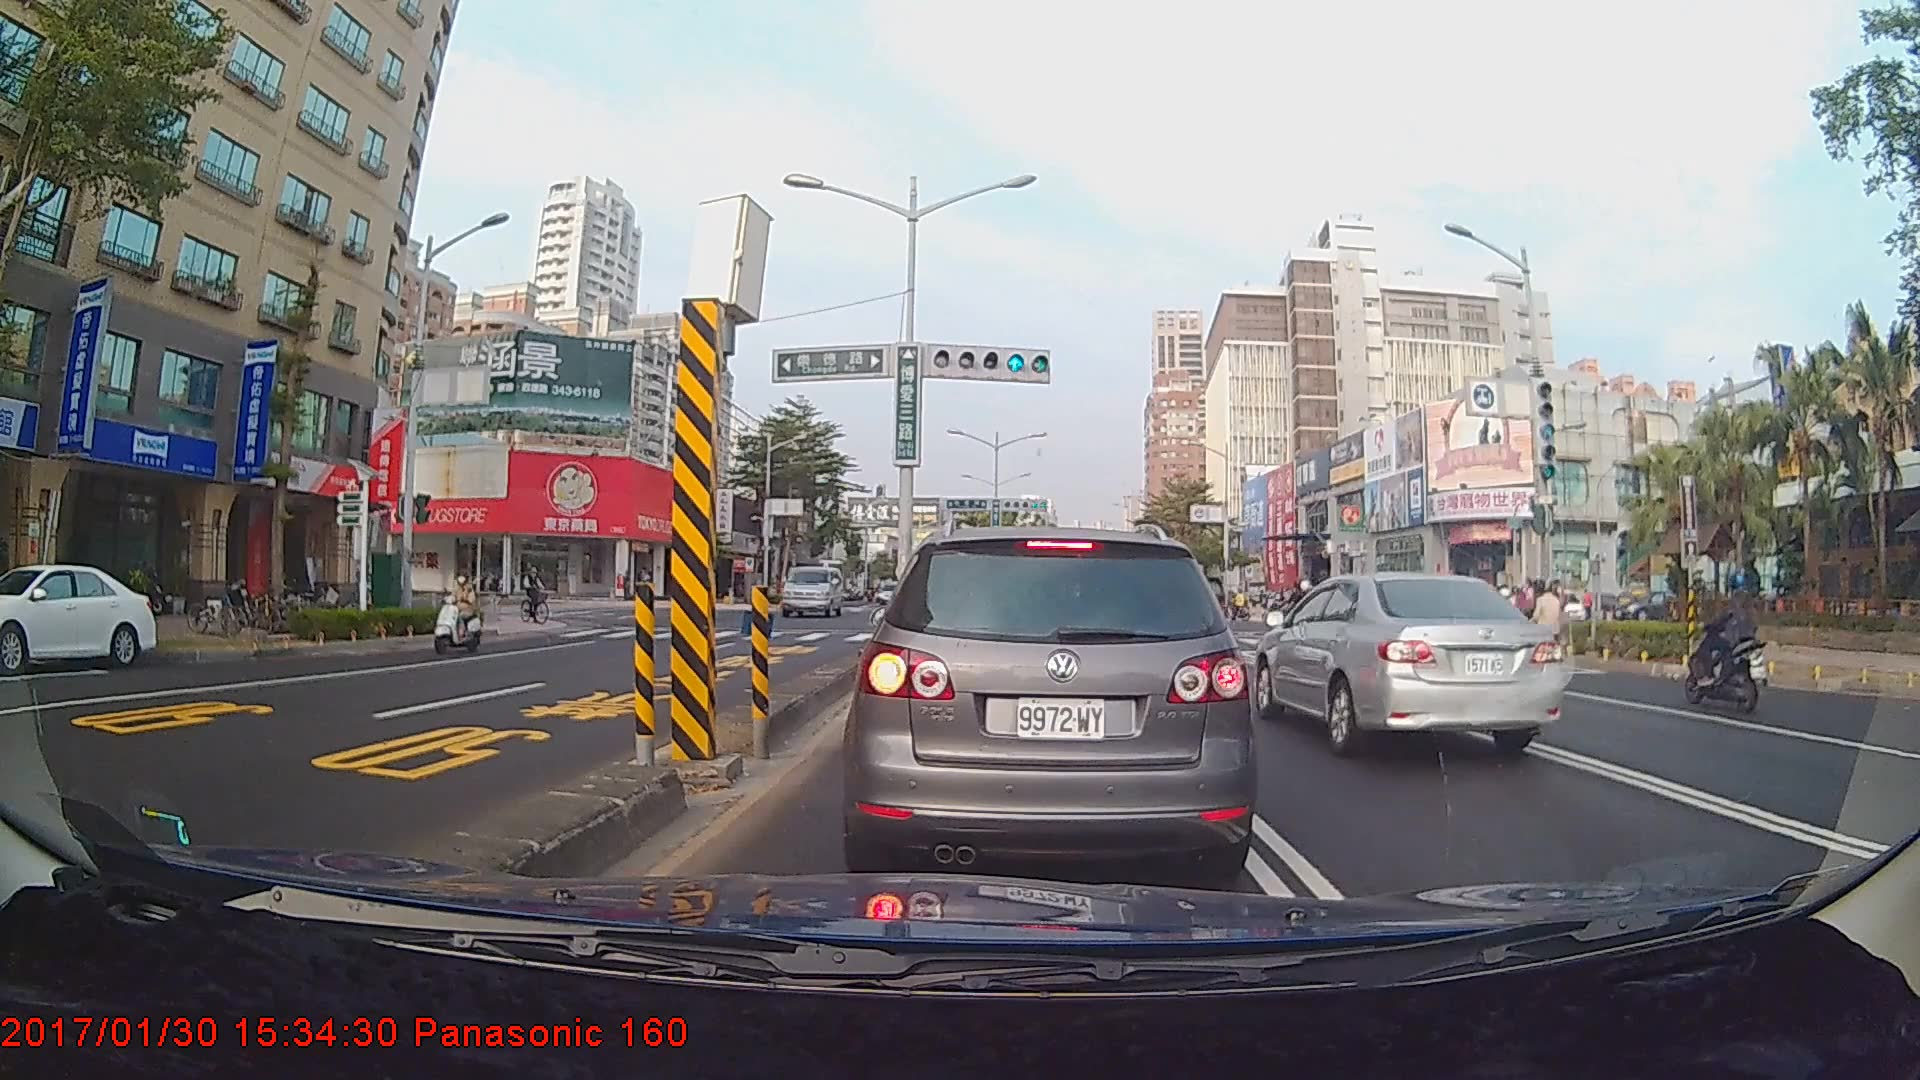rider: (1687, 569, 1773, 711), (428, 566, 495, 665), (518, 559, 561, 629)
vehicle: (853, 522, 1246, 883), (1252, 569, 1564, 759), (0, 561, 157, 671), (781, 565, 843, 619)
